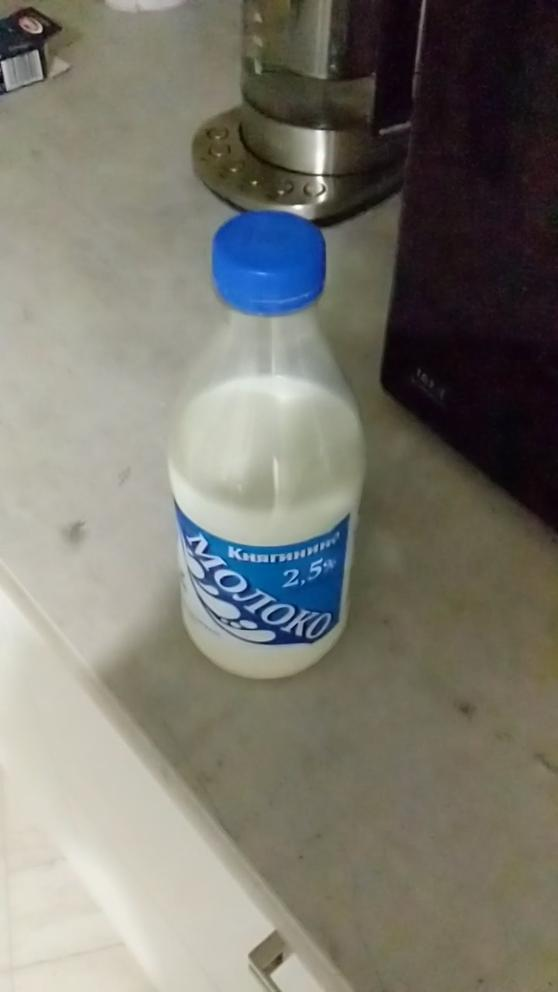milk: (140, 206, 377, 700)
